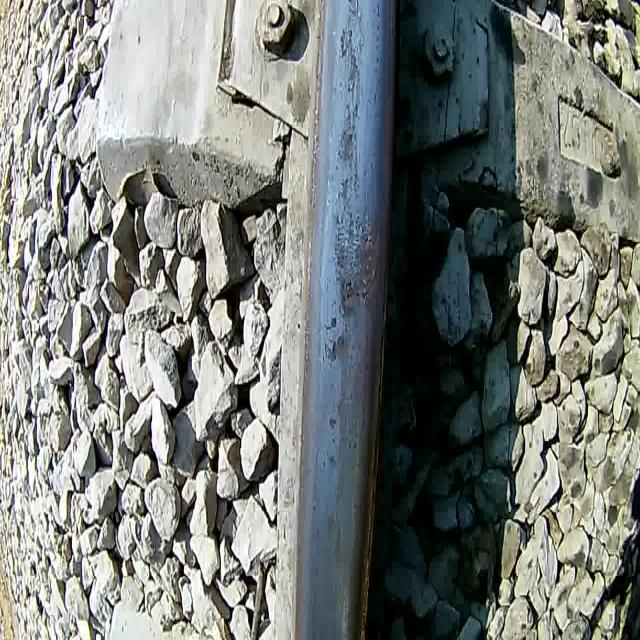Squats: (336, 214, 384, 324), (319, 312, 355, 370), (337, 112, 357, 170)
